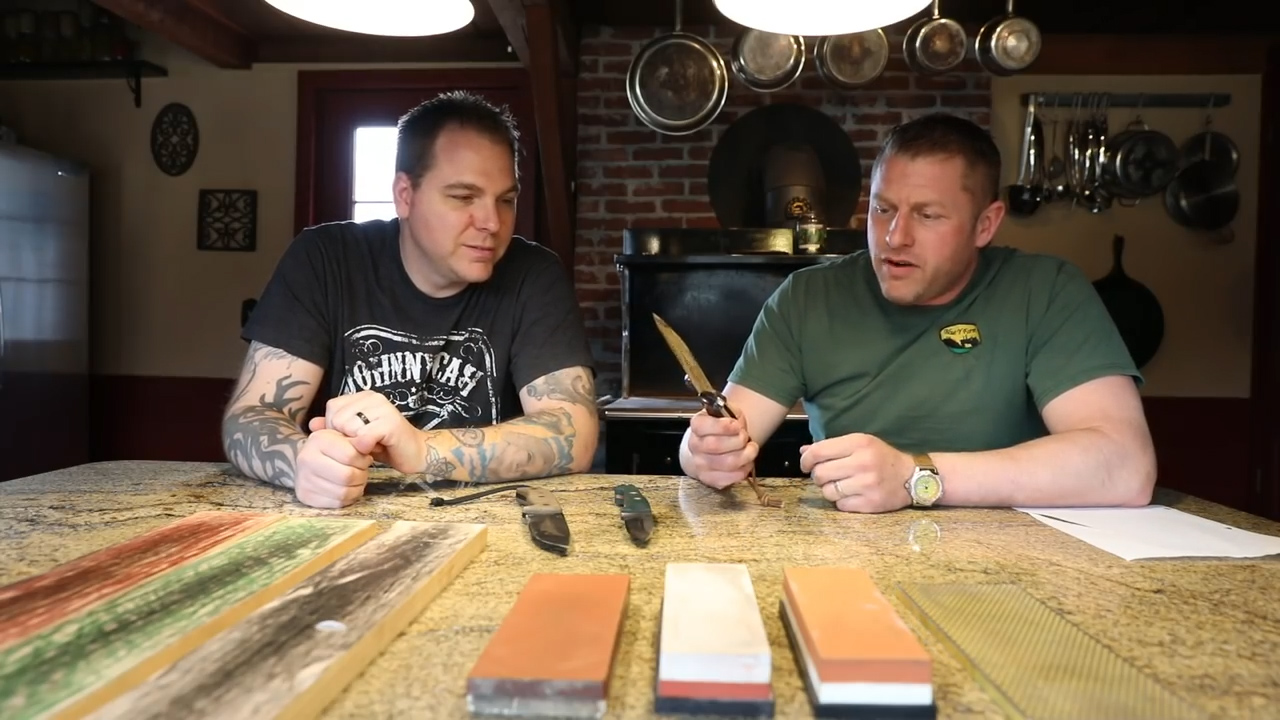knife: (642, 298, 765, 480)
